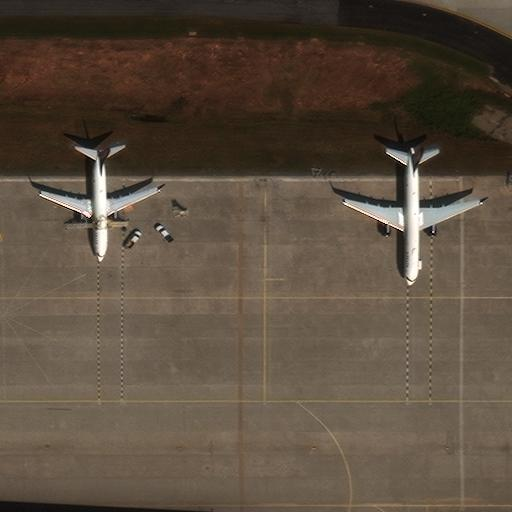Large Civil Transport: (342, 146, 481, 286)
Medium Civil Transport: (40, 149, 160, 262)
